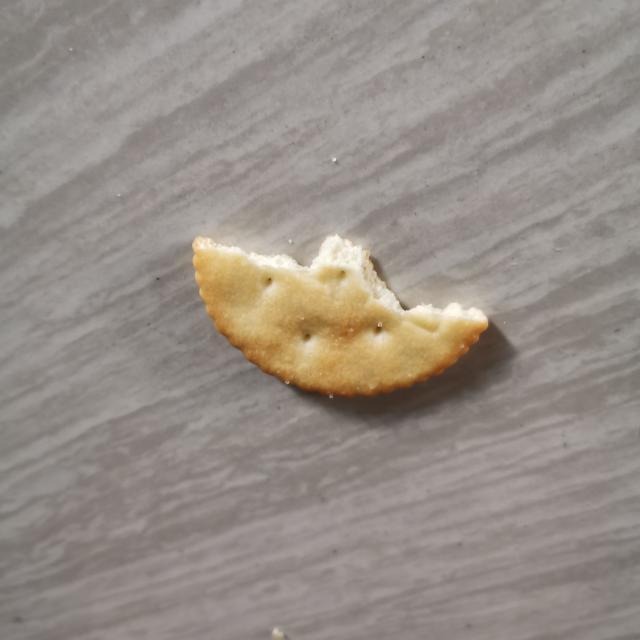Broken: (191, 232, 489, 399)
